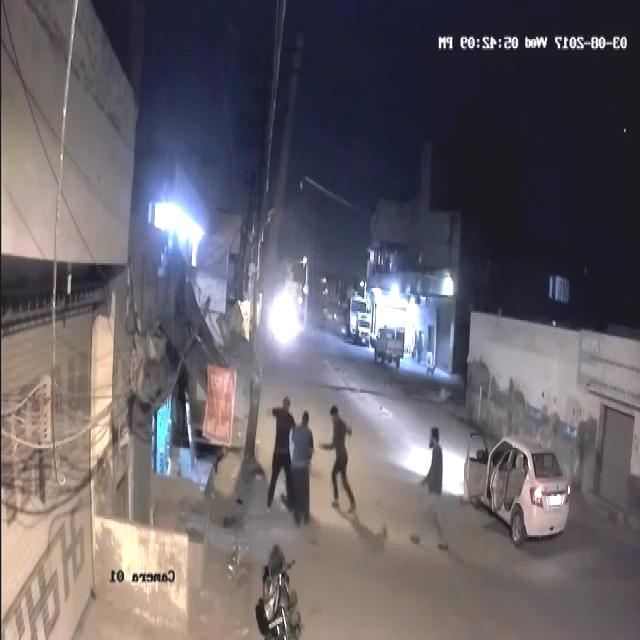fight: (257, 394, 315, 531)
